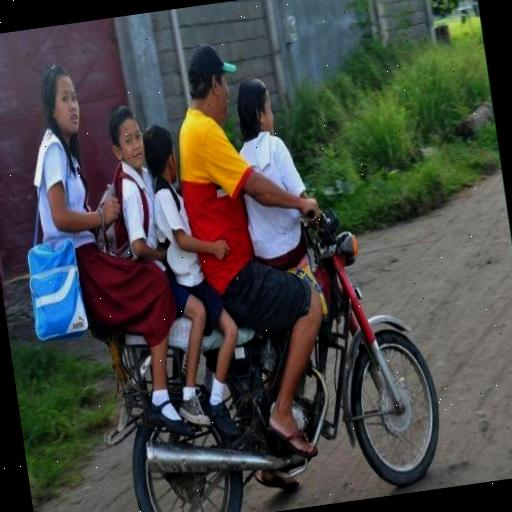no helmet: (162, 22, 278, 186)
triple riding: (8, 0, 459, 512)
